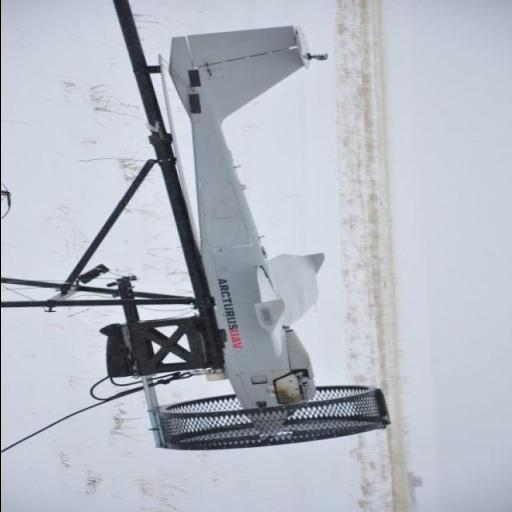uav: (174, 15, 340, 446)
